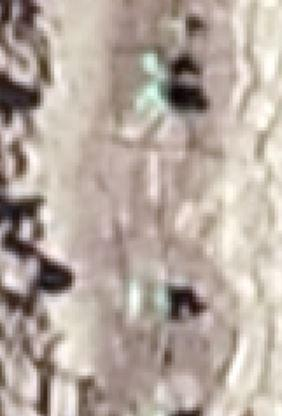cotton: (140, 82, 165, 104), (145, 54, 169, 72), (158, 288, 170, 315)
